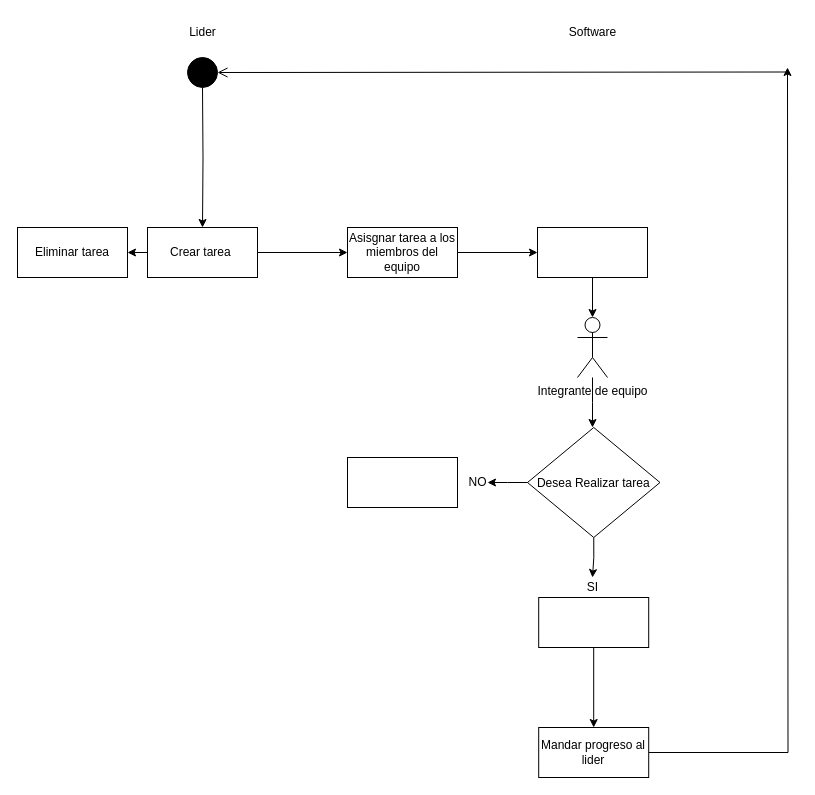
Some shapes in this 815 by 795 pixel diagram are drawn without their labels. The centre of each missing label's shape, as x and y in pixels:
"Ignorar tarea" goes at (x=402, y=482).
"Mandar notificacion a los miembros del equipo" goes at (x=592, y=252).
"Realizar tarea" goes at (x=593, y=622).
